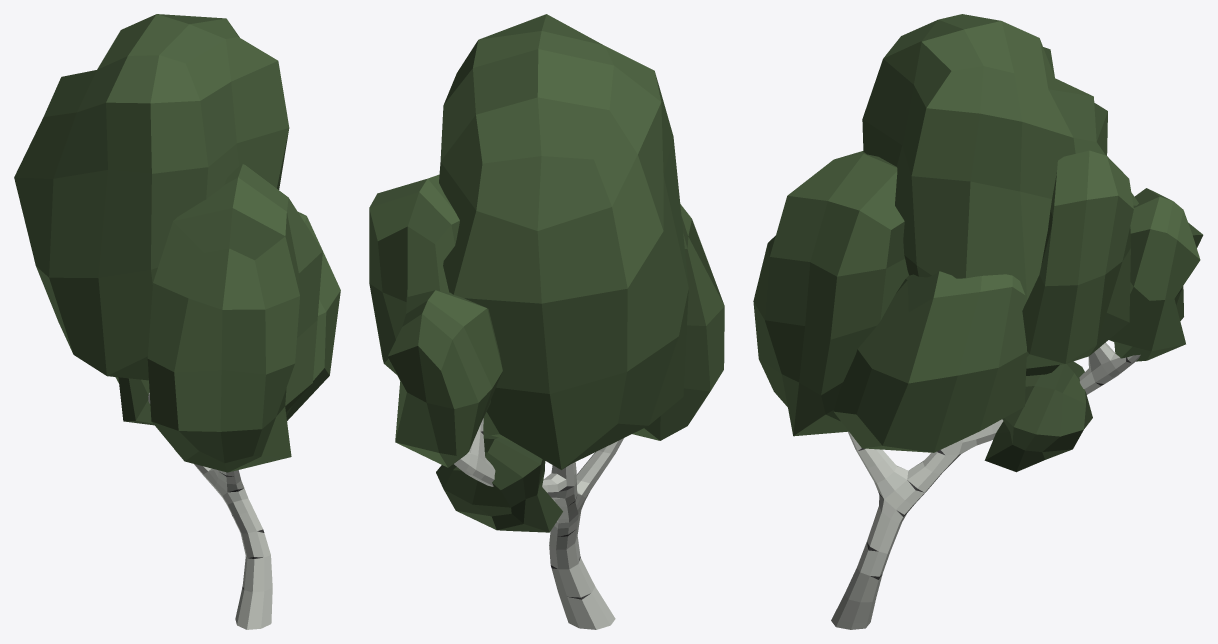
File: BirchTree_1.glb
3 views of the same model, side by side, from view 1: azimuth 30°, elevation 25°; view 2: azimuth 150°, elevation 25°; view 3: azimuth 270°, elevation 25° (orthographic). The views are drawn at different scales.
Parts seen in each view (by area): view 1: BirchTree_1_Cube; view 2: BirchTree_1_Cube; view 3: BirchTree_1_Cube.
Part boxes in pixels (x1,y1,x2,y2): BirchTree_1_Cube: (14,14,340,629); BirchTree_1_Cube: (369,14,724,629); BirchTree_1_Cube: (753,14,1203,629).
Bounding box in the file's own units: 1.7 × 3.57 × 2.48.
